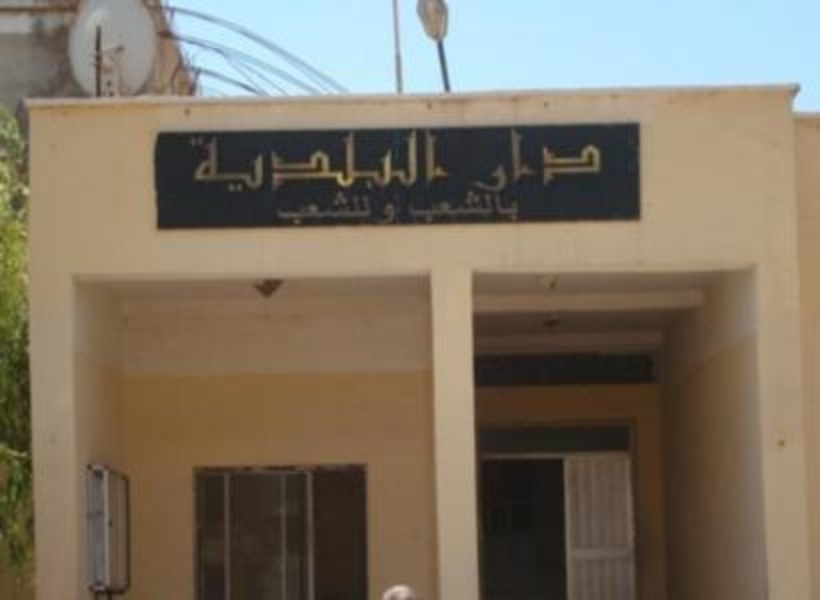text: (481, 129, 496, 197), (497, 129, 512, 197), (513, 129, 528, 197), (529, 129, 544, 197), (545, 129, 560, 197), (561, 129, 576, 197), (577, 129, 592, 197), (193, 133, 208, 194), (209, 133, 224, 194), (225, 133, 240, 194), (241, 133, 256, 194), (257, 133, 272, 194), (273, 133, 288, 194), (289, 133, 304, 194), (305, 133, 320, 194), (321, 133, 336, 194), (337, 133, 352, 194), (353, 133, 368, 194), (369, 133, 384, 194), (385, 133, 400, 194), (401, 133, 416, 194), (417, 133, 432, 194), (593, 129, 605, 197), (433, 133, 445, 194), (470, 129, 480, 197), (417, 189, 432, 229), (433, 189, 448, 229), (449, 189, 464, 229), (465, 189, 480, 229), (481, 189, 496, 229), (497, 189, 512, 229), (273, 191, 288, 229), (289, 191, 304, 229), (305, 191, 320, 229), (321, 191, 336, 229), (337, 191, 352, 229), (353, 191, 368, 229), (385, 199, 400, 227), (513, 189, 523, 229), (409, 189, 416, 229), (401, 199, 409, 227), (189, 133, 192, 194), (369, 191, 373, 229), (381, 199, 384, 227)
